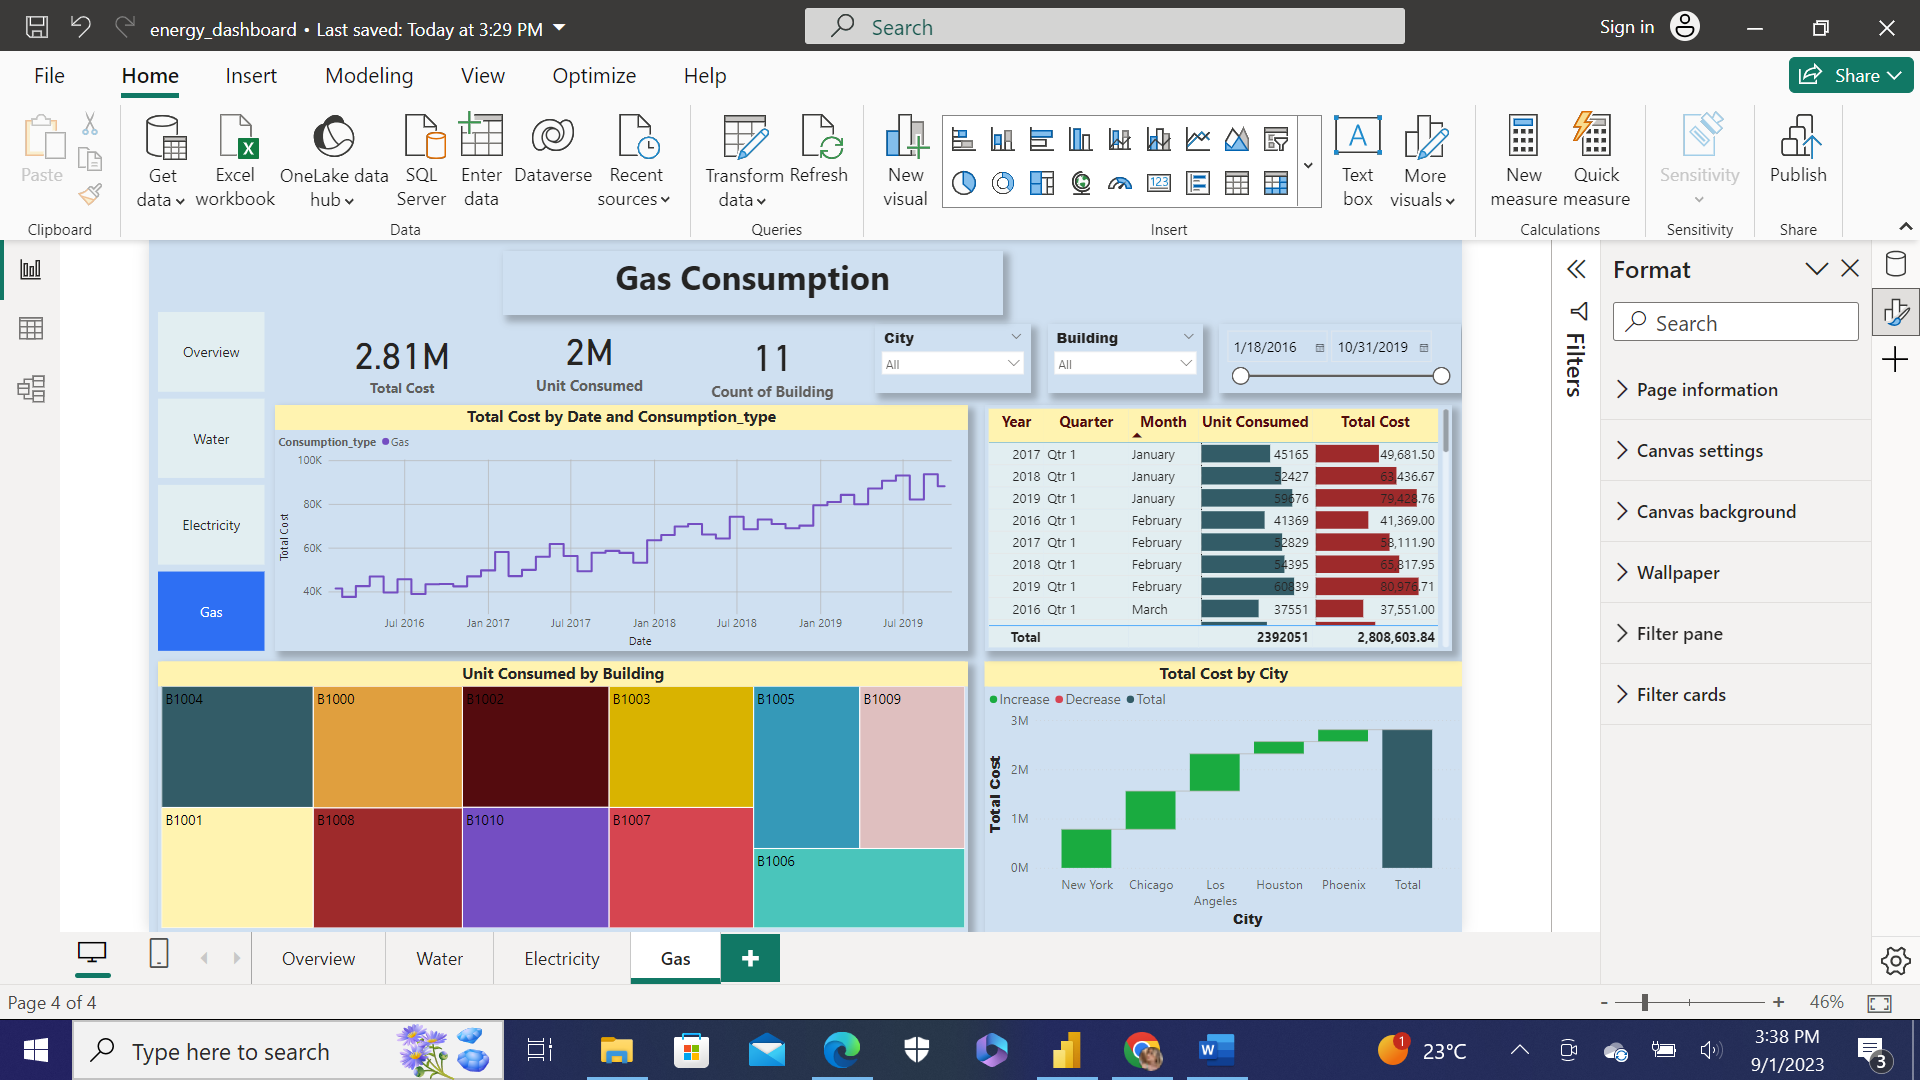

Layout of this report page (visuals, bound fields, positions):
{"tool":"powerbi","page":{"name":"Gas","canvas":[1900,1000],"ordinal":3},"visuals":[{"type":"lineChart","fields":{"Category":["Energy Consumptions.Date"],"Y":["Energy Consumptions.Total Cost"],"Series":["Energy Consumptions.Consumption_type"]},"box":[182.2,238.6,1002.2,355.7],"z":0},{"type":"waterfallChart","fields":{"Category":["Building Master.City"],"Y":["Energy Consumptions.Total Cost"]},"box":[1208.2,609.5,692,390.5],"z":1000},{"type":"treemap","fields":{"Values":["Energy Consumptions.Unit Consumed"],"Group":["Energy Consumptions.Building"]},"box":[13,609.5,1171.4,390.5],"z":2000},{"type":"tableEx","fields":{"Values":["Energy Consumptions.Date.Variation.Date Hierarchy.Year","Energy Consumptions.Date.Variation.Date Hierarchy.Quarter","Energy Consumptions.Date.Variation.Date Hierarchy.Month","Energy Consumptions.Unit Consumed","Energy Consumptions.Total Cost"]},"box":[1208.2,238.6,676.8,355.7],"z":3000},{"type":"card","fields":{"Values":["Energy Consumptions.Total Cost"]},"box":[240.8,108.5,250,130.2],"z":4000},{"type":"card","fields":{"Values":["Energy Consumptions.Unit Consumed"]},"box":[511.9,104.1,249.5,130.2],"z":5000},{"type":"slicer","fields":{"Values":["Energy Consumptions.Building"]},"box":[1298.3,122.2,225,100],"z":6000},{"type":"slicer","fields":{"Values":["Building Master.City"]},"box":[1049.9,122.2,225,100],"z":7000},{"type":"slicer","fields":{"Values":["Energy Consumptions.Date"]},"box":[1546.6,122.2,350,100],"z":8000},{"type":"pageNavigator","box":[13,104.1,154,490.2],"z":9000},{"type":"actionButton","title":"Water Consumption","box":[511.9,15.2,722.3,93.3],"z":10000},{"type":"card","fields":{"Values":["Count(Building Master.Building)"]},"box":[776.6,117.1,249.5,121.5],"z":11000}]}

Visuals, with their boxes on the page's 1900x1000 design canvas (x1, y1, x2, y2). These are canvas units, not pixel positions in the 1920x1080 screenshot, which may show the page scaled, cropped or inside an application window:
lineChart - Energy Consumptions.Date x Energy Consumptions.Total Cost: <box>182,239,1184,594</box>
waterfallChart - Building Master.City x Energy Consumptions.Total Cost: <box>1208,610,1900,1000</box>
treemap - Energy Consumptions.Unit Consumed x Energy Consumptions.Building: <box>13,610,1184,1000</box>
tableEx - Energy Consumptions.Date.Variation.Date Hierarchy.Year x Energy Consumptions.Date.Variation.Date Hierarchy.Quarter: <box>1208,239,1885,594</box>
card - Energy Consumptions.Total Cost: <box>241,108,491,239</box>
card - Energy Consumptions.Unit Consumed: <box>512,104,761,234</box>
slicer - Energy Consumptions.Building: <box>1298,122,1523,222</box>
slicer - Building Master.City: <box>1050,122,1275,222</box>
slicer - Energy Consumptions.Date: <box>1547,122,1897,222</box>
pageNavigator: <box>13,104,167,594</box>
"Water Consumption" actionButton: <box>512,15,1234,108</box>
card - Count(Building Master.Building): <box>777,117,1026,239</box>
